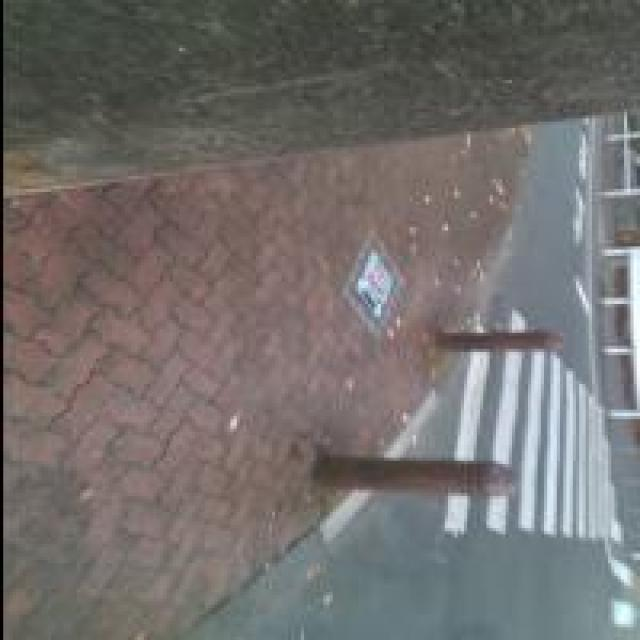Obstacle: (6, 0, 639, 166), (313, 447, 510, 494), (345, 248, 404, 331), (437, 330, 559, 351)
Road: (189, 494, 639, 639), (410, 348, 618, 540), (494, 121, 589, 381)
Sidewalk: (5, 131, 526, 639)
